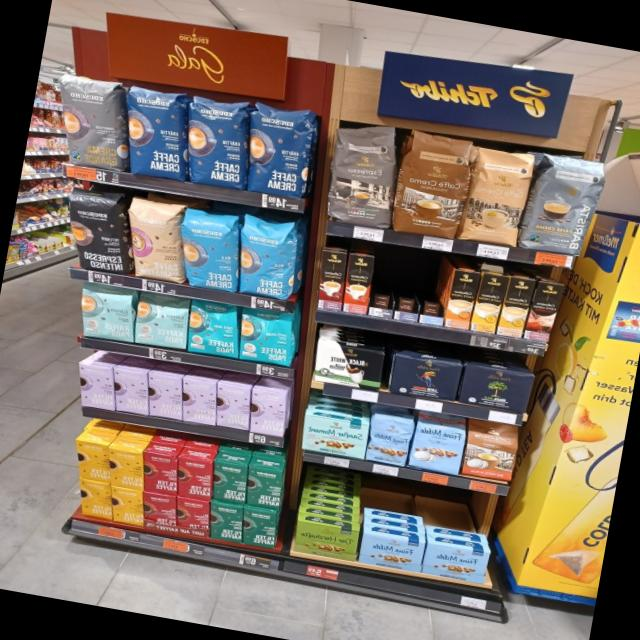BM Gemahlen: (457, 362, 535, 416)
BW Gemahlen: (312, 338, 388, 392)
Barista CC: (520, 148, 608, 258)
CC Mild: (458, 143, 536, 249)
CC Vollmundig: (460, 416, 522, 484)
CC Vollmundig 36 Pads: (390, 128, 478, 244)
Empty Shelf: (417, 261, 453, 317), (368, 253, 400, 310), (392, 257, 424, 313)
Espresso Aromatisch: (323, 116, 400, 230)
FM 36 Pads: (406, 410, 468, 476)
FM Bohne: (363, 410, 415, 468)
FM Gemahlen: (420, 538, 492, 584), (356, 528, 426, 574)
Herzhatfe Mundig: (290, 518, 360, 564)
LG Gemahlen: (386, 351, 463, 403)
SM Gemahlen: (299, 412, 370, 460)
Simo CC Colombia: (522, 281, 565, 342)
Simo CCMild bigpack: (469, 272, 508, 333)
Simo CCVollmundig bigpack: (444, 268, 481, 329)
Simo Decaff: (496, 276, 535, 337)
Simo Es Brazil: (341, 253, 373, 315)
Simo Es Caramel: (316, 248, 346, 311)
